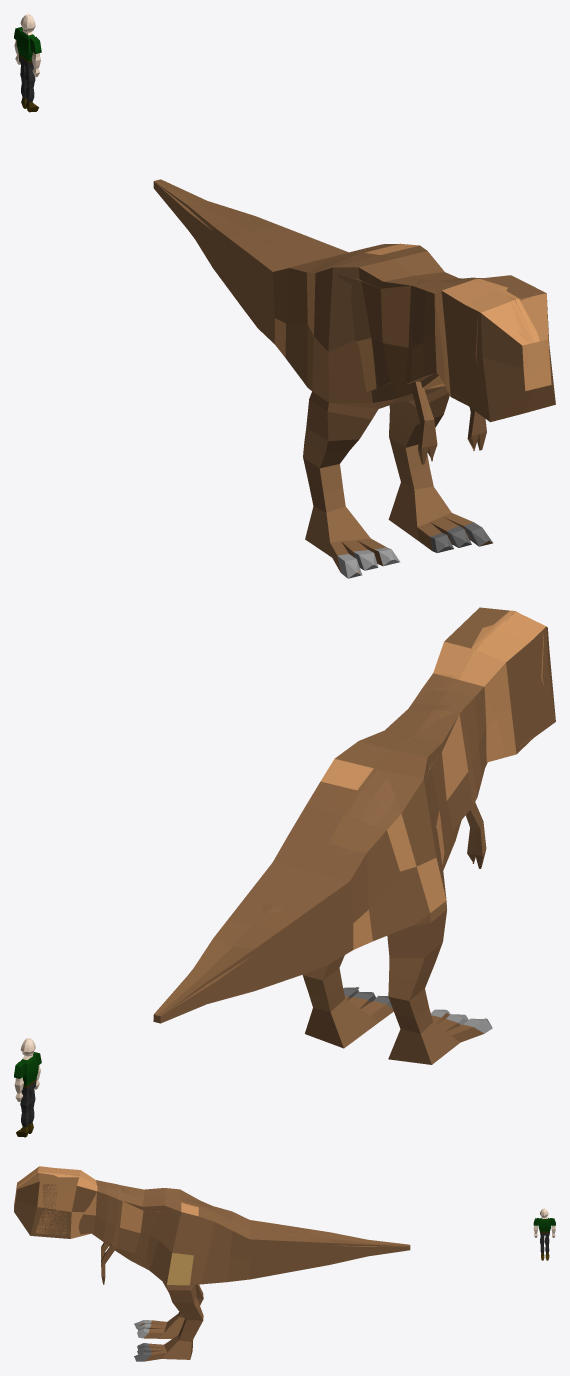
Rendered from rex.fbx.
The picture shows the model from 3 angles, top to bottom: view 1: azimuth 30°, elevation 25°; view 2: azimuth 150°, elevation 25°; view 3: azimuth 270°, elevation 25°; orthographic projection. The views are drawn at different scales.
Visible parts, largest first — view 1: Rex, RS Style Guy; view 2: Rex, RS Style Guy; view 3: Rex, RS Style Guy.
Part boxes in pixels (x1=…): Rex: x1=153, y1=179, x2=555, y2=578; RS Style Guy: x1=14, y1=14, x2=41, y2=112; Rex: x1=153, y1=607, x2=555, y2=1064; RS Style Guy: x1=14, y1=1038, x2=41, y2=1137; Rex: x1=14, y1=1166, x2=410, y2=1361; RS Style Guy: x1=533, y1=1208, x2=555, y2=1260.
Bounding box in the file's own units: 369 × 810 × 2288.
